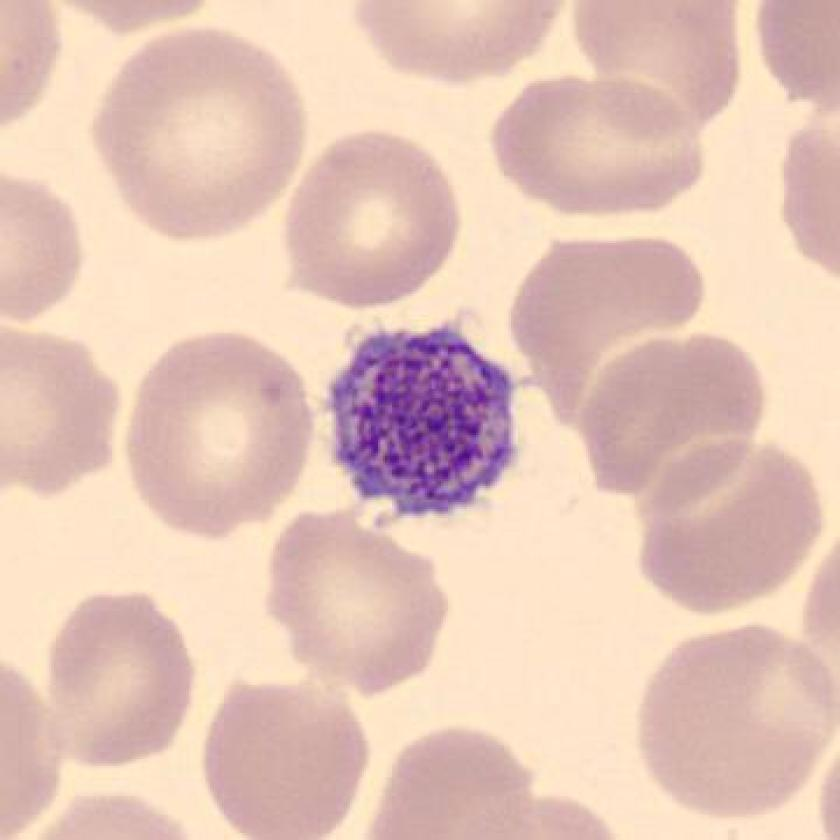platelets: (311, 306, 531, 531)
